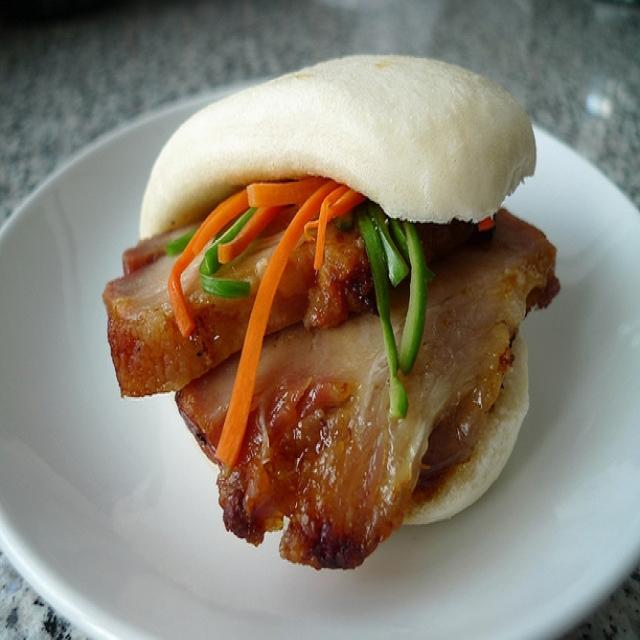牛肉菜式: (51, 50, 599, 599)
